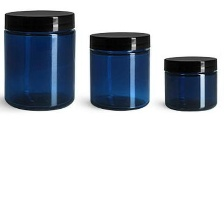bottle: (3, 9, 80, 115), (86, 28, 152, 114), (161, 51, 218, 115)
